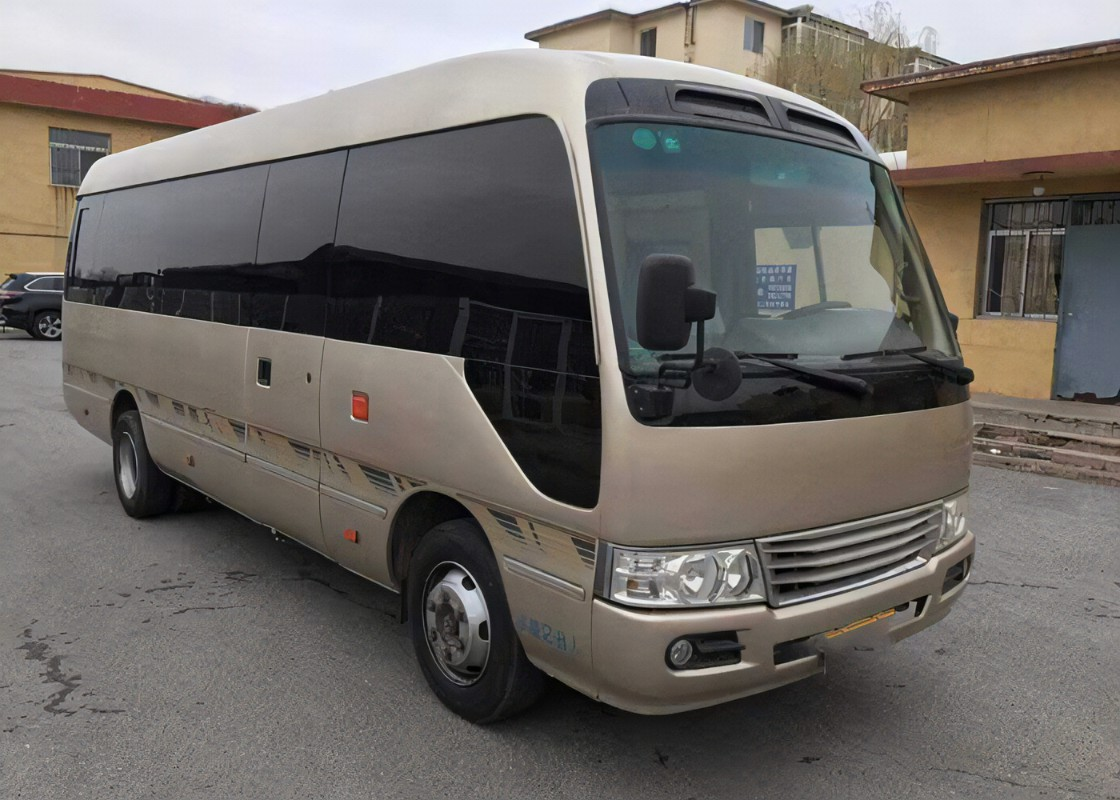midcar: (29, 64, 1002, 704)
